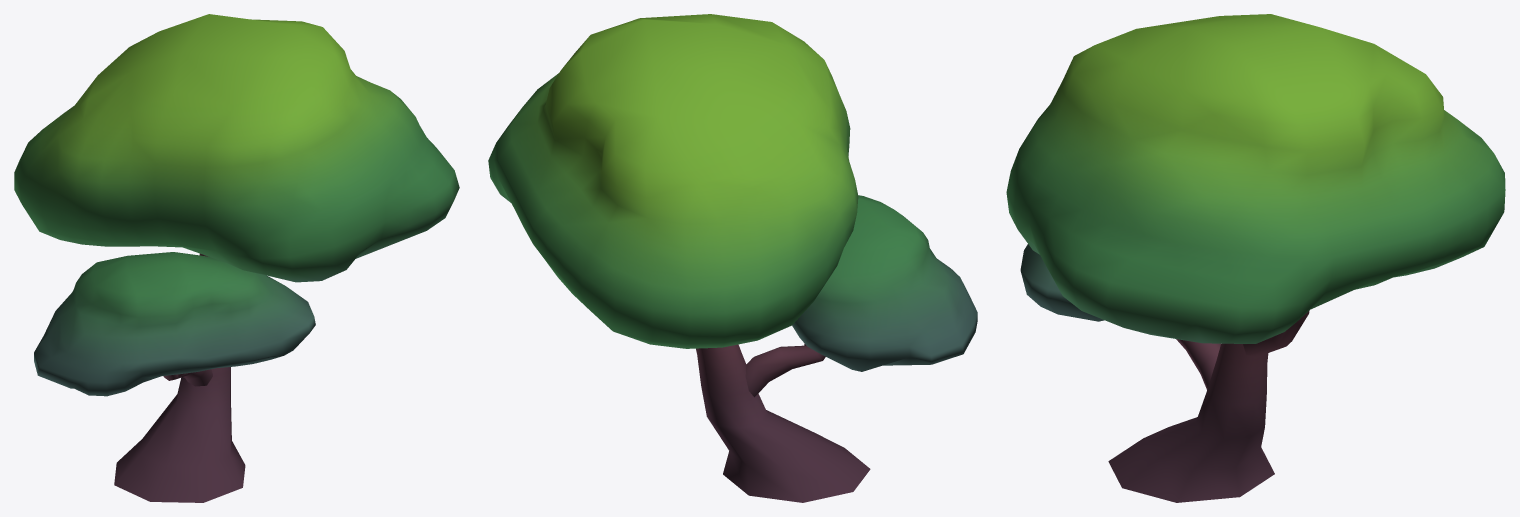
File: tree_pack_22.glb
The picture shows the model from 3 angles, left to right: view 1: azimuth 30°, elevation 25°; view 2: azimuth 150°, elevation 25°; view 3: azimuth 270°, elevation 25°; orthographic projection. The views are drawn at different scales.
Visible parts, largest first — view 1: Tree.026; view 2: Tree.026; view 3: Tree.026.
Boxes of the visible parts, x1,y1,x2,y2 form: Tree.026: (14,14,459,502); Tree.026: (488,14,977,502); Tree.026: (1006,14,1505,502).
Size of the model in its own units: 7.04 by 6.64 by 6.06.
1 material, 1 textured.
